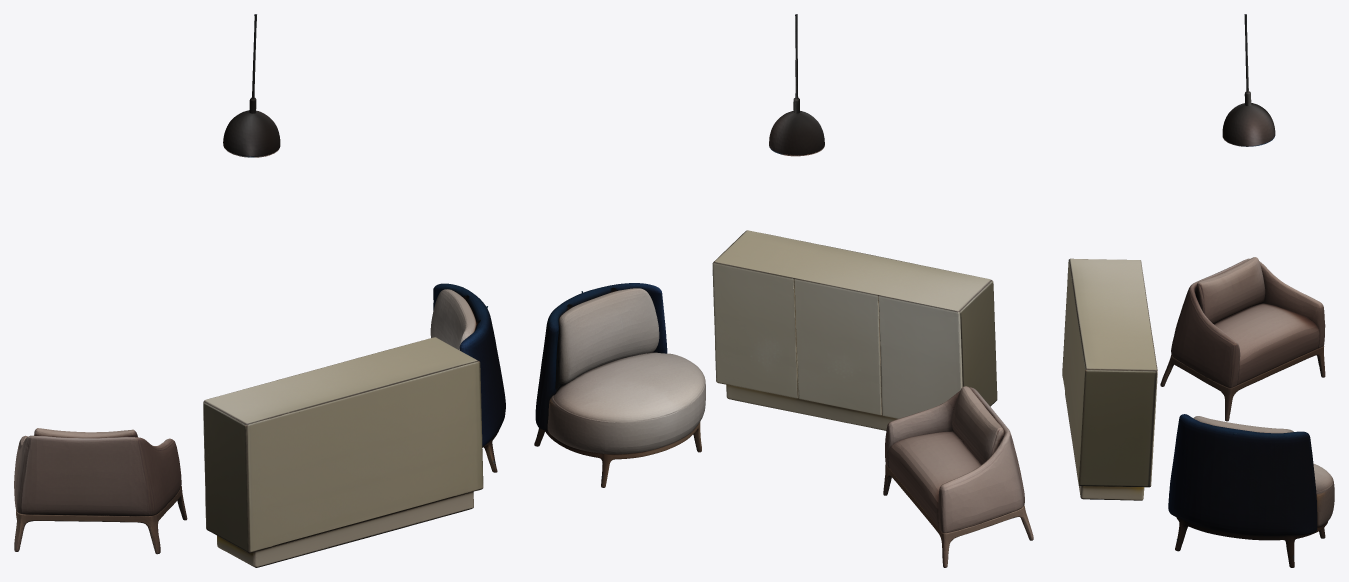
3 renders of one model, left to right at view 1: azimuth 30°, elevation 25°; view 2: azimuth 150°, elevation 25°; view 3: azimuth 270°, elevation 25°, orthographic. The views are drawn at different scales.
Parts seen in each view (by area): view 1: mesh_0; view 2: mesh_0; view 3: mesh_0.
Part boxes in pixels (left/top/right/bottom): mesh_0: left=14, top=14, right=505, bottom=567; mesh_0: left=534, top=14, right=1033, bottom=567; mesh_0: left=1062, top=14, right=1334, bottom=567.
Bounding box in the file's own units: 5.9 × 5.7 × 3.1.
Materials: 4 (4 with a texture image).
